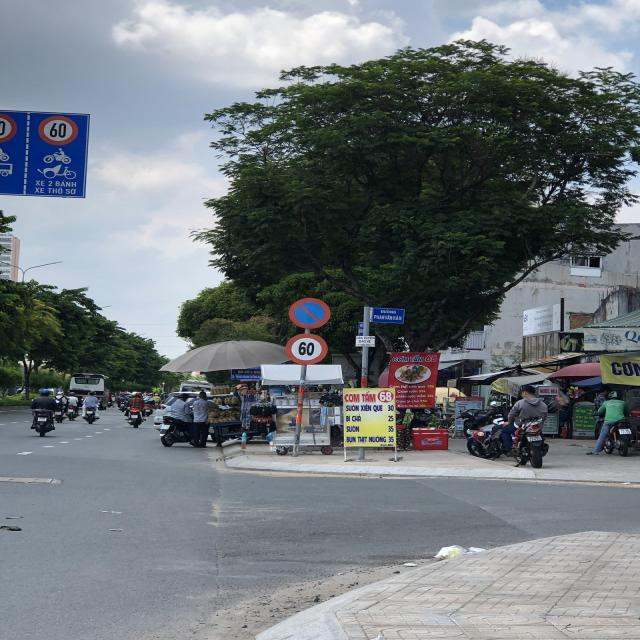Bien bao cam do xe: (285, 294, 336, 332)
Bien bao toc do toi da cho phep: (285, 329, 333, 369), (37, 114, 89, 148)
